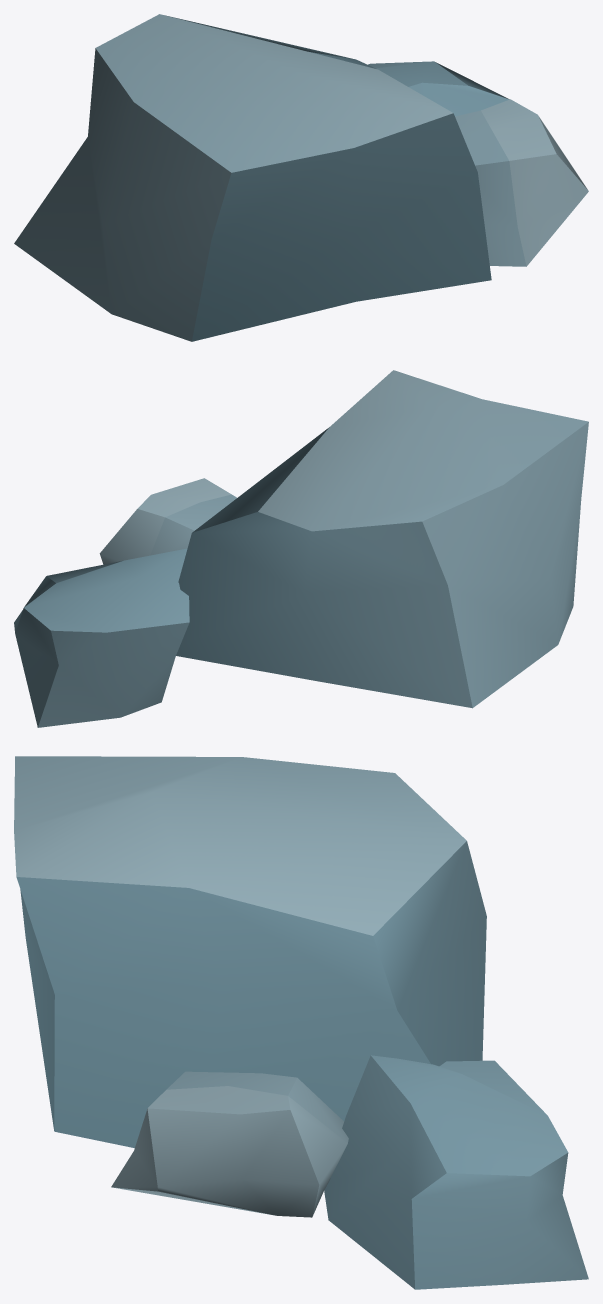
File: Rock01.fbx
3 renders of one model, top to bottom at view 1: azimuth 30°, elevation 25°; view 2: azimuth 150°, elevation 25°; view 3: azimuth 270°, elevation 25°, orthographic. The views are drawn at different scales.
Visible parts, largest first — view 1: Rock01_LOD01; view 2: Rock01_LOD01; view 3: Rock01_LOD01.
Boxes of the visible parts, x1=… form: Rock01_LOD01: x1=14, y1=14, x2=588, y2=341; Rock01_LOD01: x1=14, y1=370, x2=588, y2=727; Rock01_LOD01: x1=14, y1=756, x2=588, y2=1289.
Size of the model in its own units: 84.02 by 44.35 by 68.19.
